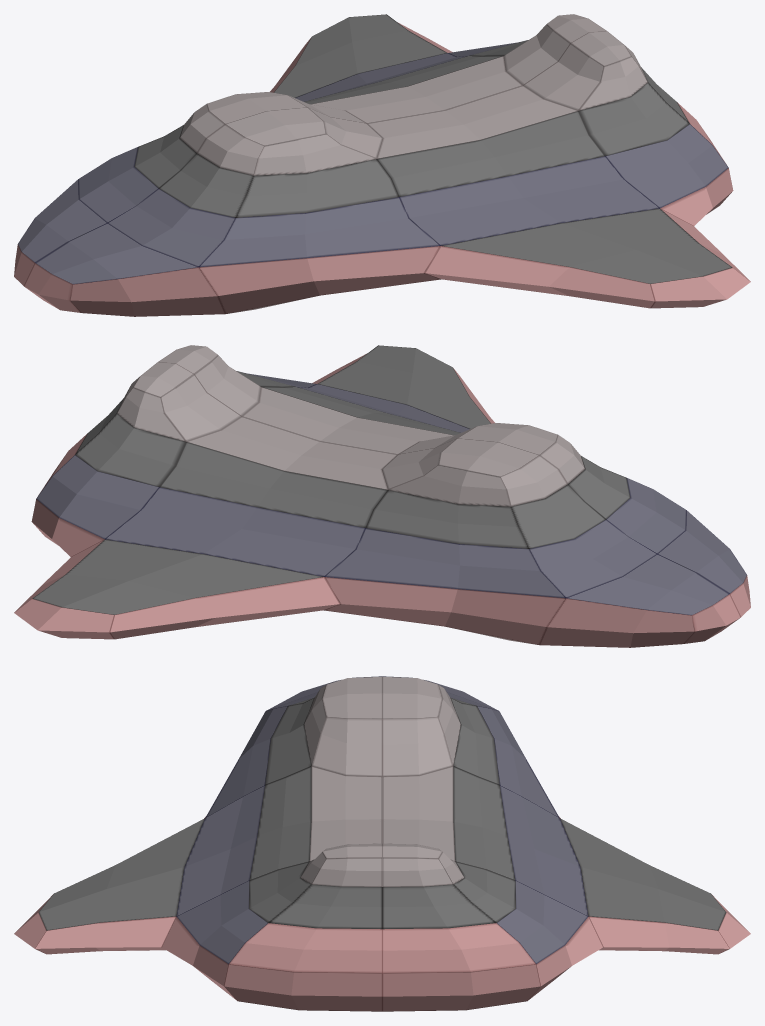
The model's file is ship.fbx.
3 renders of one model, top to bottom at view 1: azimuth 30°, elevation 25°; view 2: azimuth 150°, elevation 25°; view 3: azimuth 270°, elevation 25°, orthographic. The views are drawn at different scales.
Parts seen in each view (by area): view 1: Ship; view 2: Ship; view 3: Ship.
Boxes of the visible parts, box(x1,y1,x2,y2) form: Ship: box(14, 14, 750, 316); Ship: box(14, 345, 750, 647); Ship: box(14, 676, 750, 1011).
Size of the model in its own units: 972 by 225 by 989.
